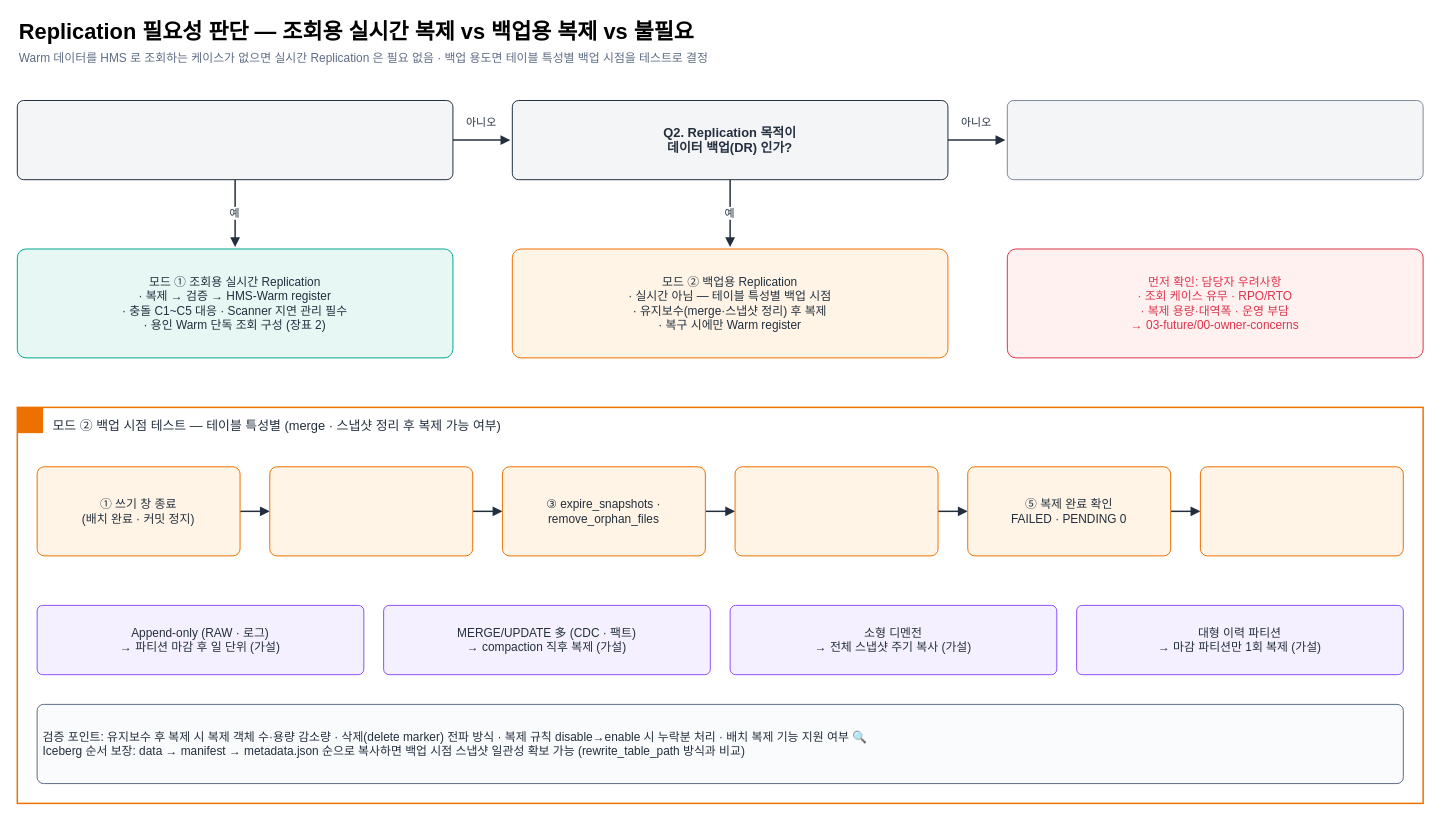
This 1441x821 diagram has some shape labels left out. The shapes that lost their labels are listed below. From the top down, each one's box as (x1, y1, x2, y2) in pixels, then its label:
(16, 99, 453, 180): Q1. Warm MinIO 의 데이터를 HMS(Trino · Polaris)로 직접 조회하는 케이스가 있는가?
(1006, 99, 1423, 180): 모드 ③ Replication 불필요 → ILM Transition 만 사용 (Hot 용량 관리)
(17, 407, 43, 433): T-B
(269, 466, 473, 556): ② rewrite_data_files (merge · compaction)
(734, 466, 938, 556): ④ 복제 트리거 배치 복제 / 규칙 enable / mirror 🔍
(1199, 466, 1403, 556): ⑥ 복구 검증 Warm register_table → 조회 성공
